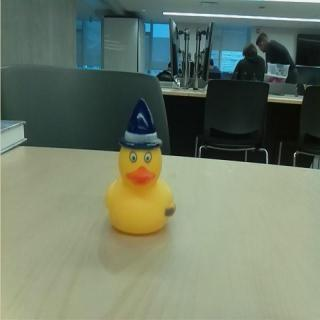duck_specialty: (104, 97, 178, 237)
